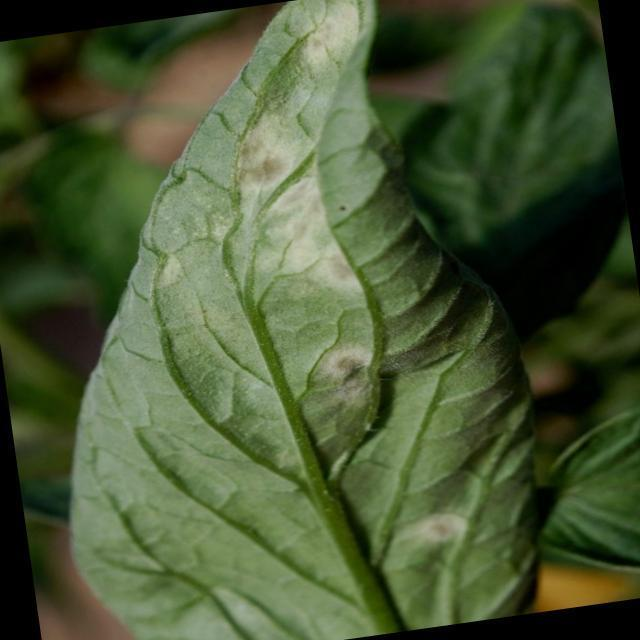Mosaic Virus: (205, 0, 504, 585)
